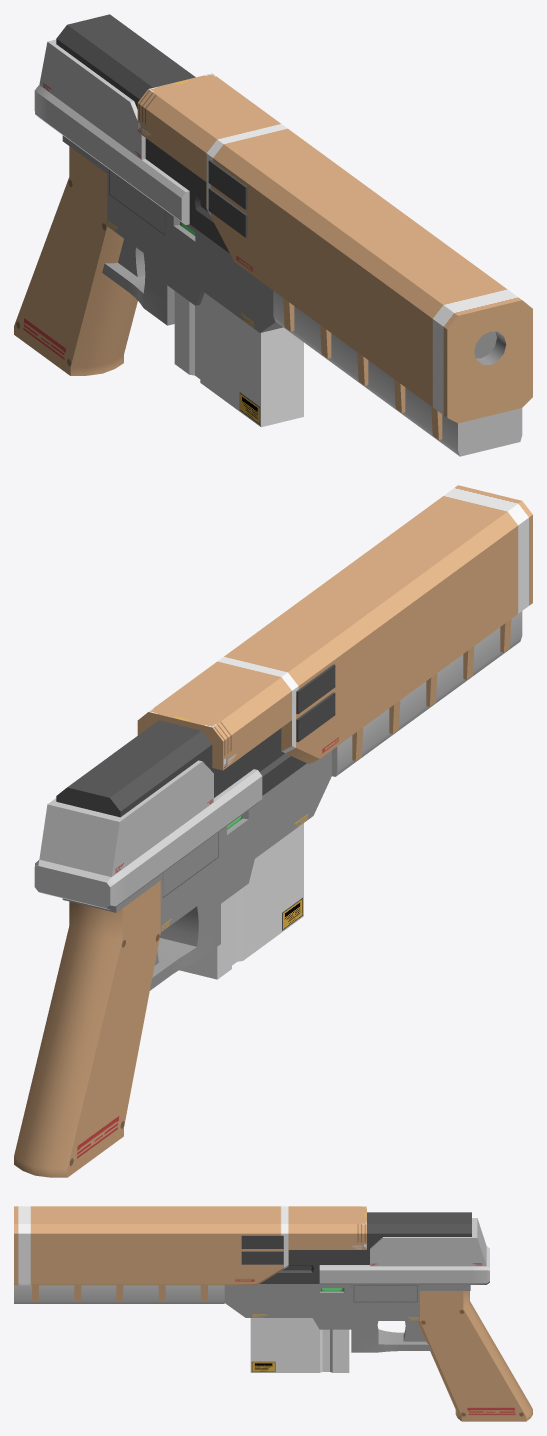
File: gun2.fbx
3 renders of one model, top to bottom at view 1: azimuth 30°, elevation 25°; view 2: azimuth 150°, elevation 25°; view 3: azimuth 270°, elevation 25°, orthographic. The views are drawn at different scales.
Visible parts, largest first — view 1: Cube; view 2: Cube; view 3: Cube.
Boxes of the visible parts, left/top/right/bottom form: Cube: left=14, top=14, right=532, bottom=456; Cube: left=14, top=485, right=532, bottom=1177; Cube: left=14, top=1206, right=532, bottom=1421.
Bounding box in the file's own units: 4.2 × 15.61 × 36.89.
Materials: 1 (1 with a texture image).
